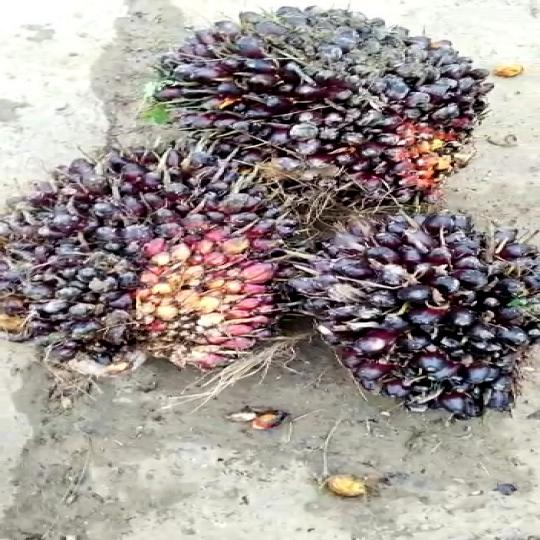kurang masak: (161, 0, 506, 215), (0, 140, 303, 372), (270, 216, 540, 418)
